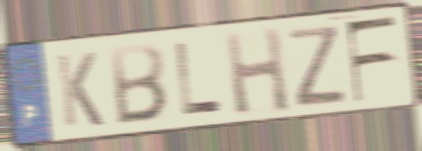B: (109, 41, 170, 128)
F: (343, 13, 400, 107)
H: (222, 24, 293, 118)
K: (54, 50, 106, 130)
L: (173, 40, 225, 118)
Z: (287, 23, 347, 110)
